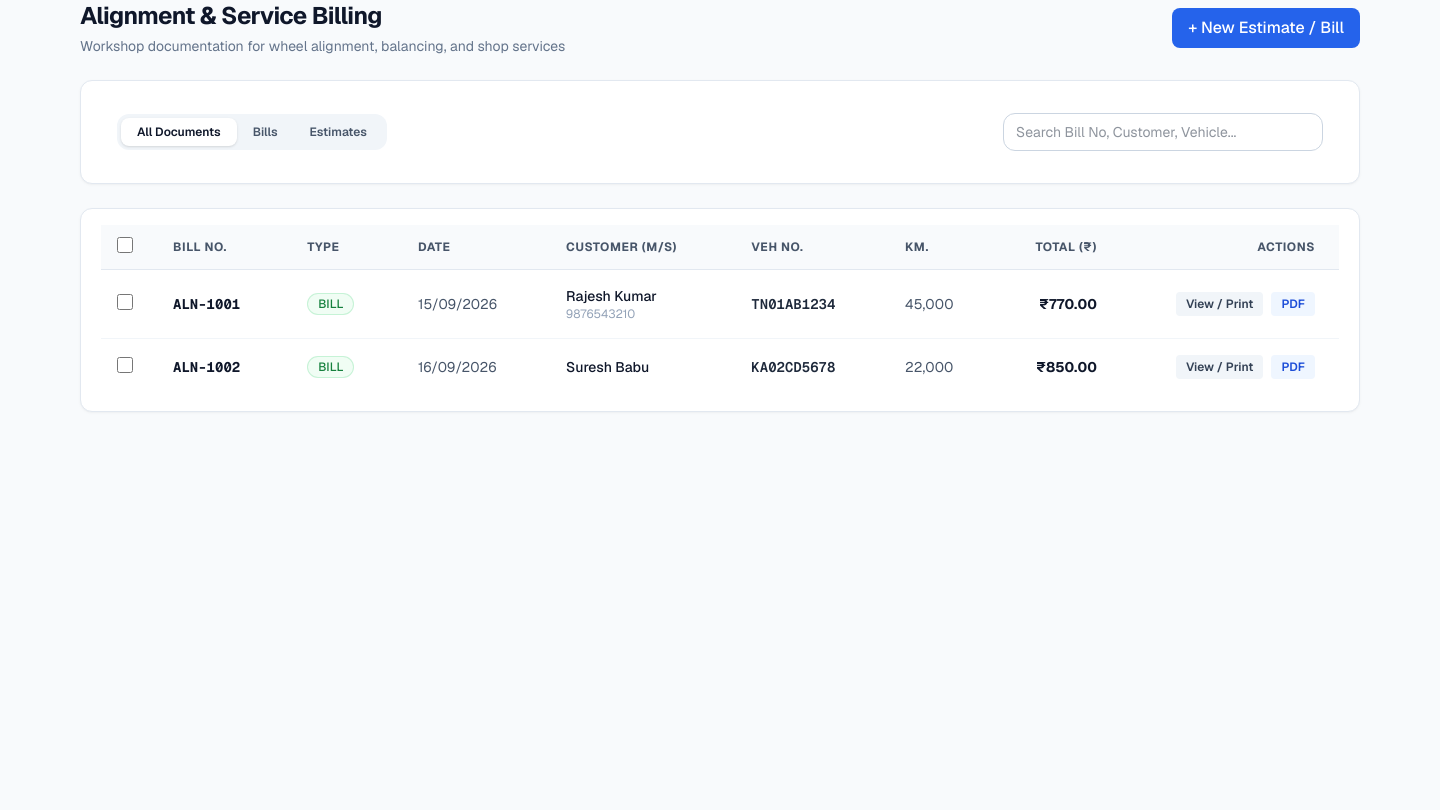
AlignmentBillingPage History & Permanent Delete Component Tests › executes permanent deletion on modal confirmation and re-fetches list
Expected: the link "ALN-1001" is shown, [173,295,240,313]
Click the checkbox named "Select bill ALN-1001".
click(125, 302)  # box [117,294,133,310]
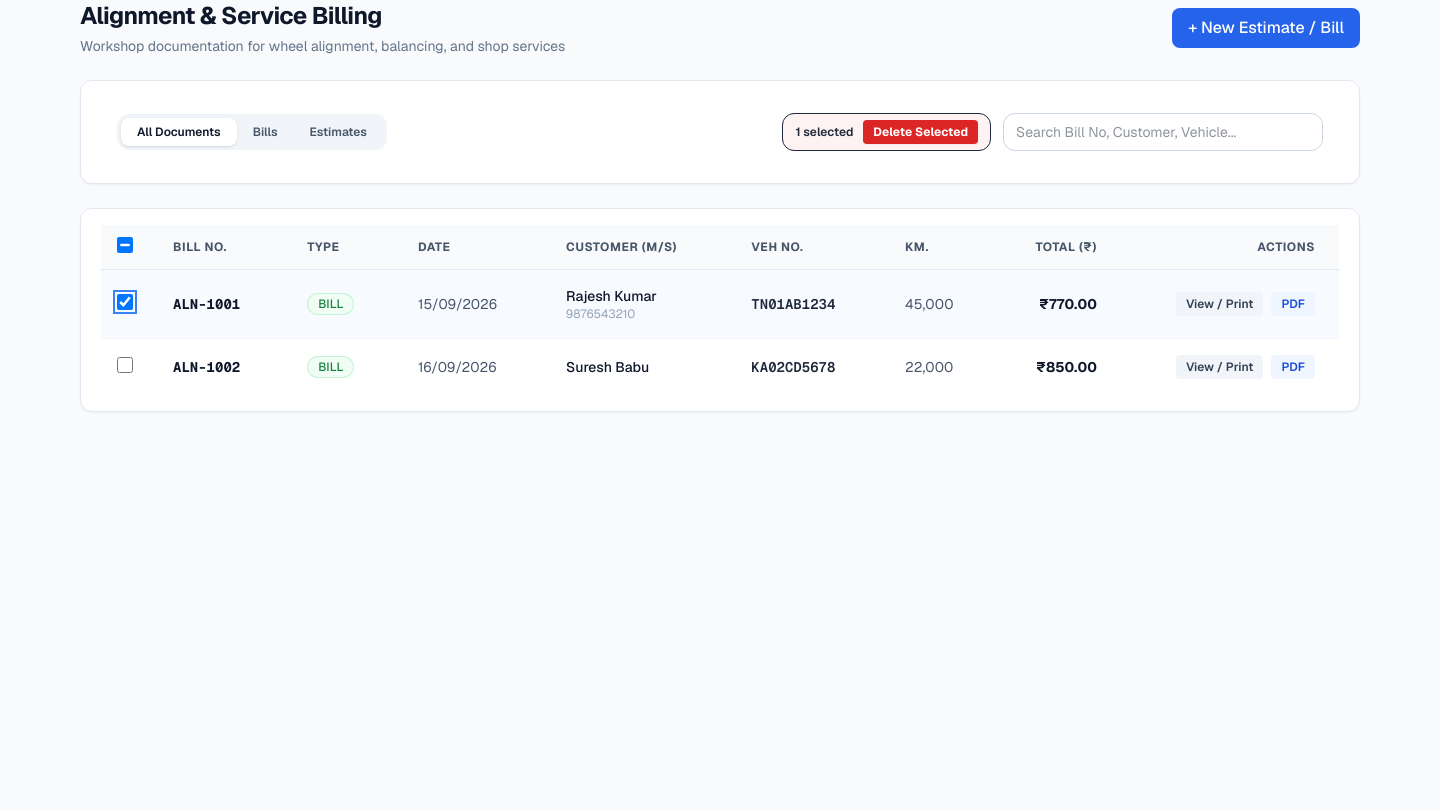
Click the button "Delete Selected".
click(921, 132)  # box [863,120,978,144]
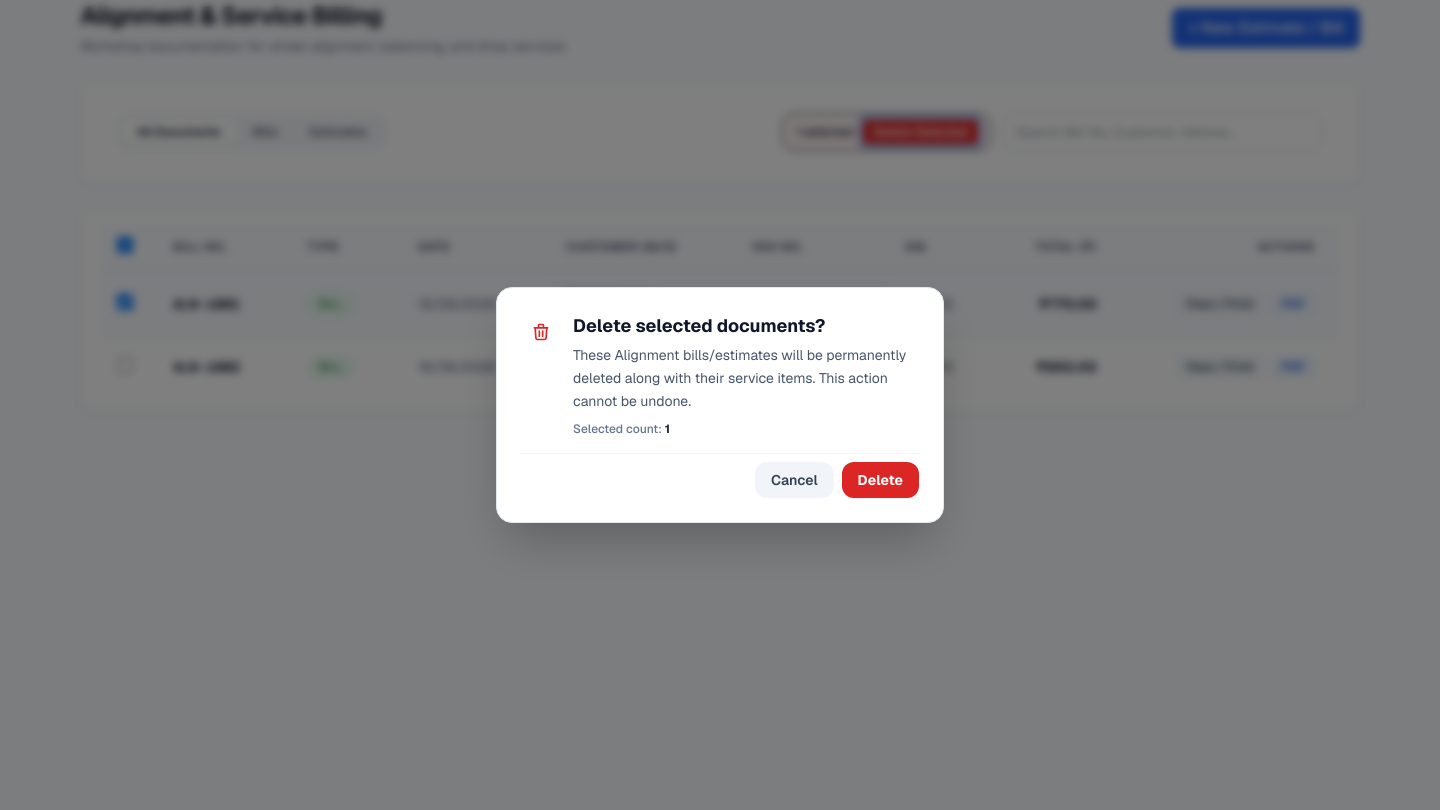
Note: Click confirm Delete in modal
Click the button "Delete".
click(880, 480)  # box [842,462,919,498]
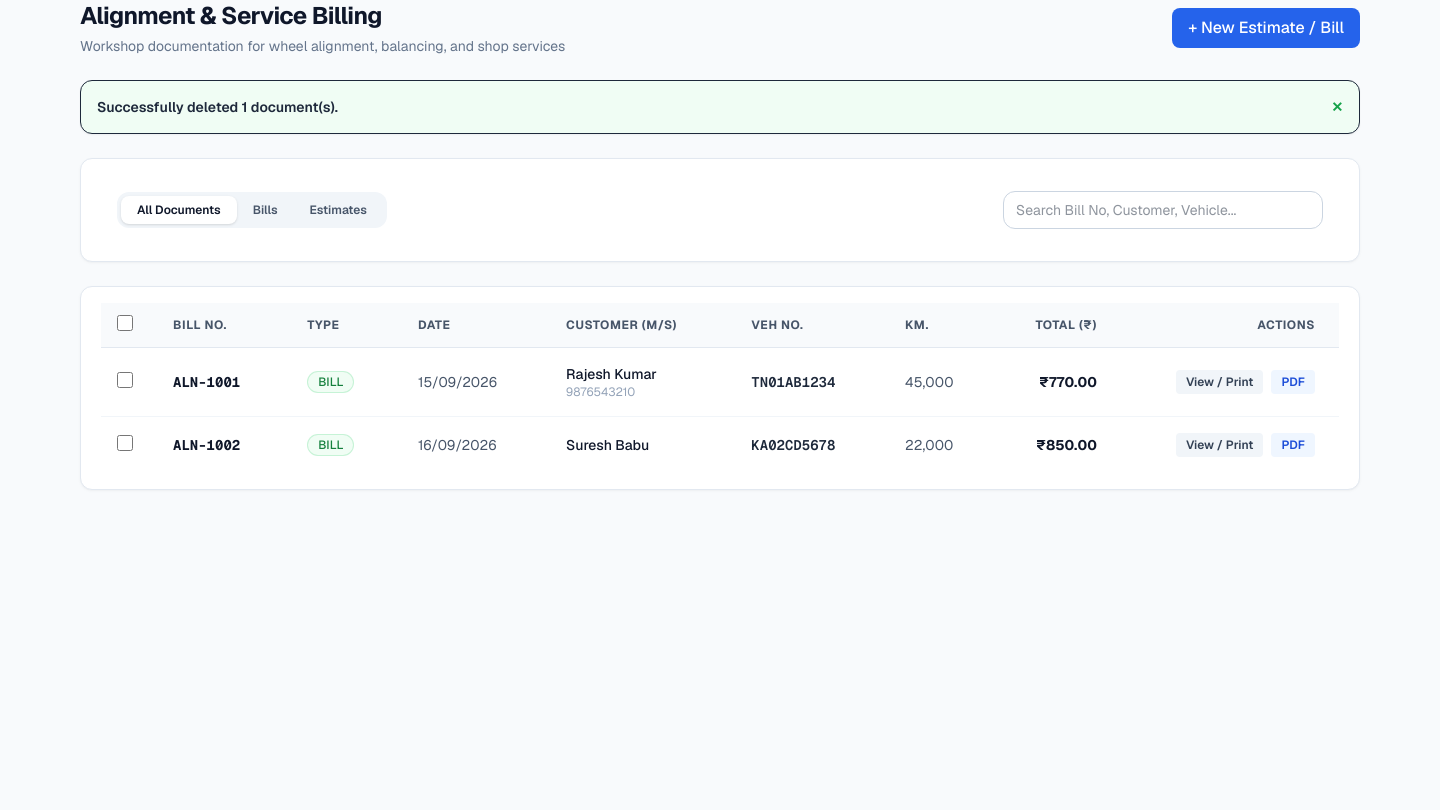
Expected: the text "Successfully deleted 1 document(s)." is shown, [97,97,338,117]
